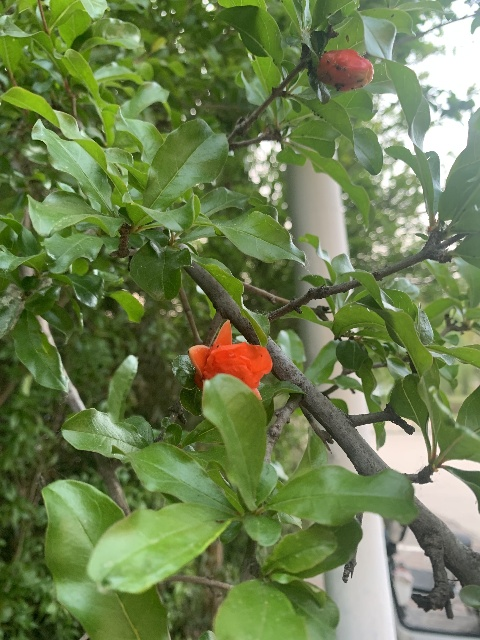bud: (316, 49, 373, 91)
flower: (189, 319, 272, 399)
